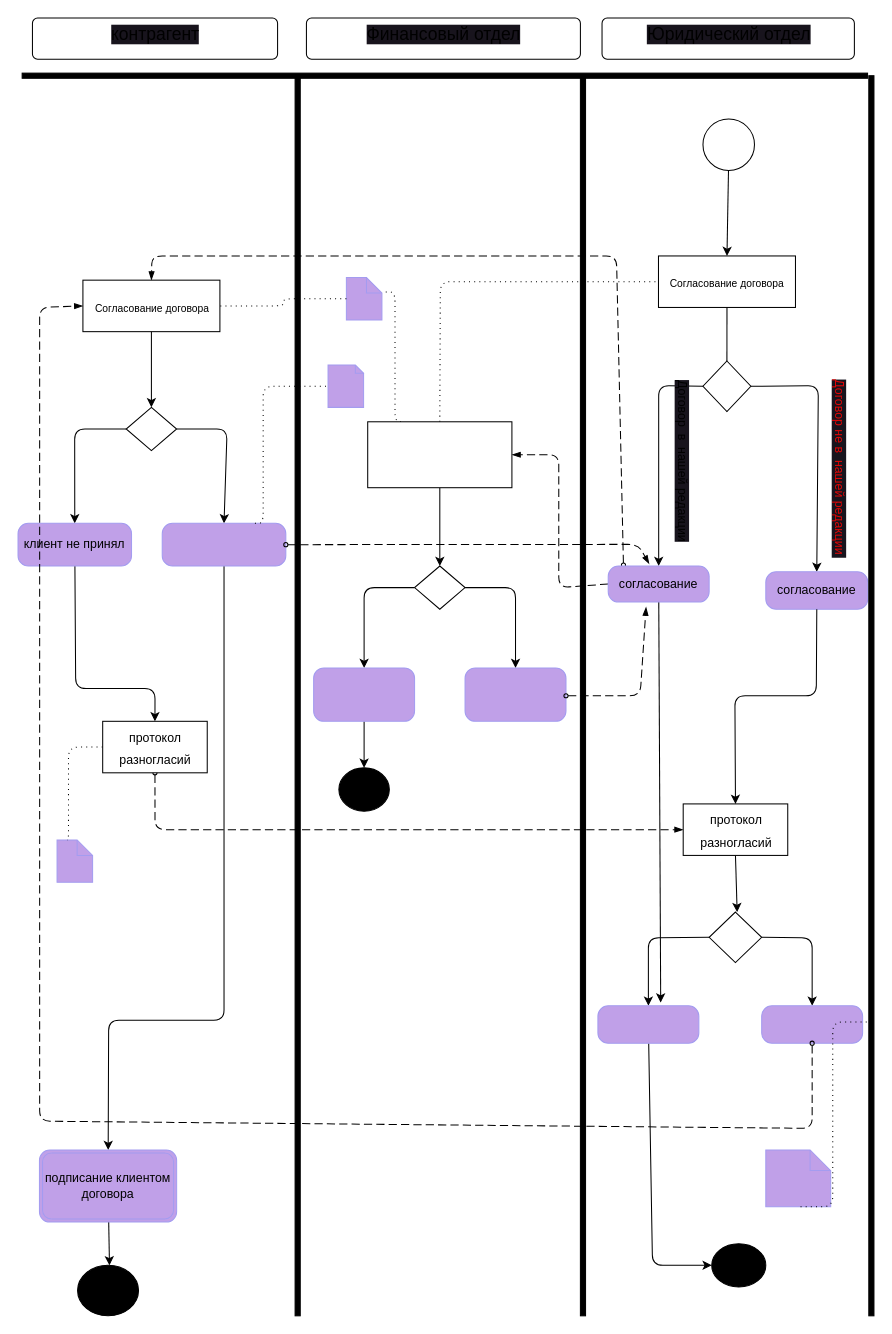
Some shapes in this 892 by 1334 pixel diagram are drawn without their labels. Each missing label, with the centre of its shape:
"блокировка согласования" goes at point 364,694.
"клиент принял" goes at point 223,544.
"не согласовано" goes at point 812,1024.
"отправка согласованной формы" goes at point 515,694.
"проверка контрагента" goes at point 439,454.
"согласовано" goes at point 648,1024.
